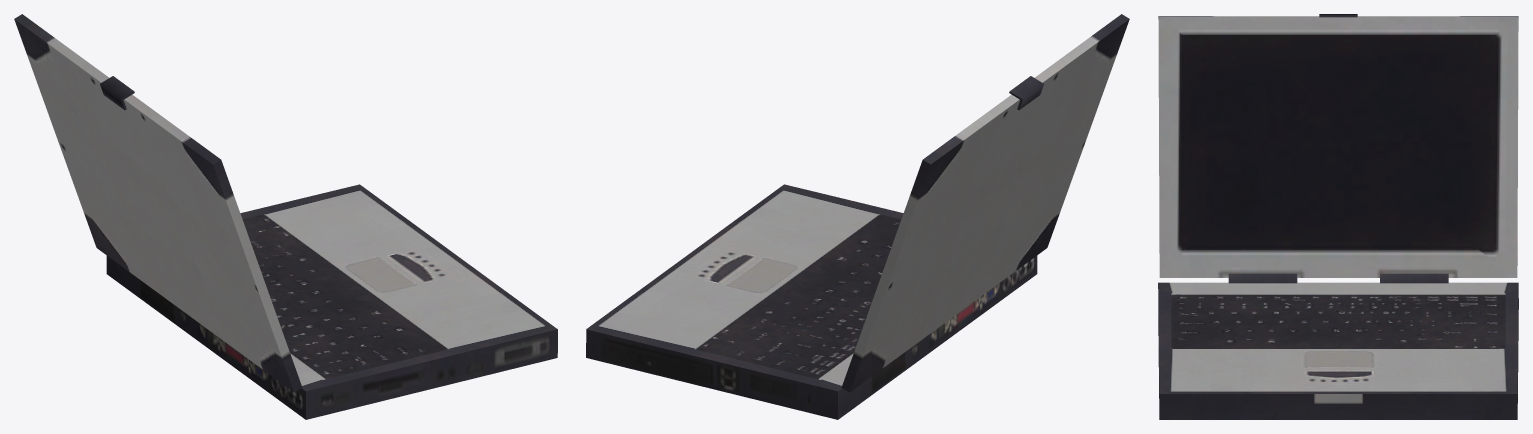
Rendered from com_laptop_open_lod1.glb.
3 views of the same model, side by side, from view 1: azimuth 30°, elevation 25°; view 2: azimuth 150°, elevation 25°; view 3: azimuth 270°, elevation 25° (orthographic). The views are drawn at different scales.
Parts seen in each view (by area): view 1: surf0; view 2: surf0; view 3: surf0.
Boxes of the visible parts, box(x1,y1,x2,y2) form: surf0: box(14, 14, 557, 419); surf0: box(586, 14, 1129, 419); surf0: box(1158, 14, 1518, 419).
Size of the model in its own units: 19.08 by 14.84 by 18.9.
